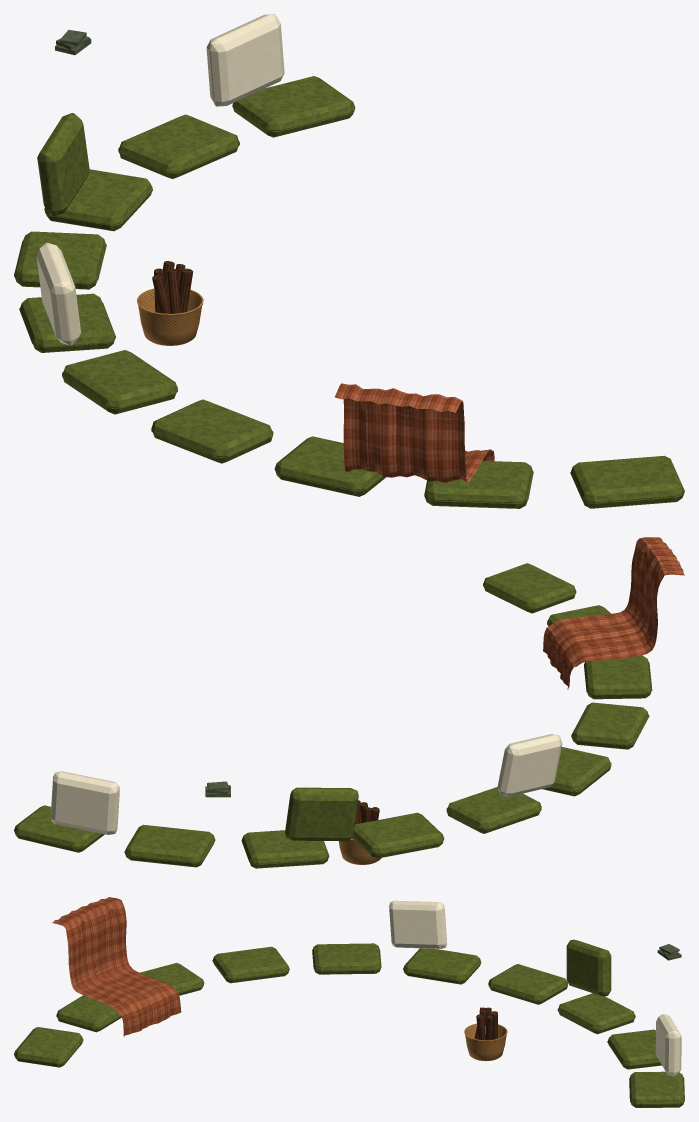
The picture shows the model from 3 angles, top to bottom: view 1: azimuth 30°, elevation 25°; view 2: azimuth 150°, elevation 25°; view 3: azimuth 270°, elevation 25°; orthographic projection. The views are drawn at different scales.
Parts seen in each view (by area): view 1: Mesh_ThrowBlanket, Mesh_LinenPillow_2, Mesh_MossCushion_0, Mesh_MossCushion_3, Mesh_MossCushion_8, Mesh_MossCushion_9, Mesh_MossCushion_4, Mesh_MossCushion_7, Mesh_MossCushion_1, Mesh_LinenPillow_1, Mesh_MossCushion_2, Mesh_MossCushion_6 (+4 smaller); view 2: Mesh_ThrowBlanket, Mesh_LinenPillow_2, Mesh_LinenPillow_1, Mesh_LinenPillow_0, Mesh_MossCushion_8, Mesh_MossCushion_6, Mesh_MossCushion_0, Mesh_MossCushion_3, Mesh_MossCushion_5, Mesh_MossCushion_2, Mesh_MossCushion_7, Mesh_MossCushion_9 (+3 smaller); view 3: Mesh_ThrowBlanket, Mesh_LinenPillow_0, Mesh_LinenPillow_1, Mesh_MossCushion_3, Mesh_MossCushion_4, Mesh_MossCushion_5, Mesh_MossCushion_6, Mesh_MossCushion_7, Mesh_MossCushion_0, Mesh_MossCushion_9, Mesh_MossCushion_8, Mesh_MossCushion_1 (+4 smaller).
Boxes of the visible parts, x1,y1,x2,y2 form: Mesh_ThrowBlanket: [334, 383, 494, 482]; Mesh_LinenPillow_2: [206, 14, 284, 106]; Mesh_MossCushion_0: [570, 455, 684, 508]; Mesh_MossCushion_3: [151, 399, 273, 463]; Mesh_MossCushion_8: [118, 114, 239, 178]; Mesh_MossCushion_9: [232, 76, 355, 137]; Mesh_MossCushion_4: [62, 350, 177, 414]; Mesh_MossCushion_7: [44, 169, 152, 231]; Mesh_MossCushion_1: [424, 460, 533, 508]; Mesh_LinenPillow_1: [37, 113, 89, 216]; Mesh_MossCushion_2: [274, 436, 386, 496]; Mesh_MossCushion_6: [14, 231, 106, 289]; Mesh_ThrowBlanket: [543, 537, 684, 689]; Mesh_LinenPillow_2: [50, 771, 119, 834]; Mesh_LinenPillow_1: [285, 787, 358, 841]; Mesh_LinenPillow_0: [497, 734, 562, 796]; Mesh_MossCushion_8: [124, 824, 215, 867]; Mesh_MossCushion_6: [352, 812, 444, 858]; Mesh_MossCushion_0: [483, 563, 576, 613]; Mesh_MossCushion_3: [571, 702, 649, 749]; Mesh_MossCushion_5: [446, 787, 541, 833]; Mesh_MossCushion_2: [584, 655, 652, 699]; Mesh_MossCushion_7: [241, 830, 329, 868]; Mesh_MossCushion_9: [14, 805, 104, 852]; Mesh_ThrowBlanket: [52, 897, 181, 1036]; Mesh_LinenPillow_0: [389, 900, 446, 948]; Mesh_LinenPillow_1: [566, 939, 611, 996]; Mesh_MossCushion_3: [212, 946, 289, 983]; Mesh_MossCushion_4: [312, 943, 381, 974]; Mesh_MossCushion_5: [403, 948, 481, 984]; Mesh_MossCushion_6: [488, 964, 567, 1004]; Mesh_MossCushion_7: [557, 993, 635, 1034]; Mesh_MossCushion_0: [14, 1027, 83, 1067]; Mesh_MossCushion_9: [629, 1071, 684, 1107]; Mesh_MossCushion_8: [607, 1029, 661, 1069]; Mesh_MossCushion_1: [56, 995, 121, 1032].
Size of the model in its own units: 4.2 by 1.53 by 7.56.
Materials: 6 (6 with a texture image).
